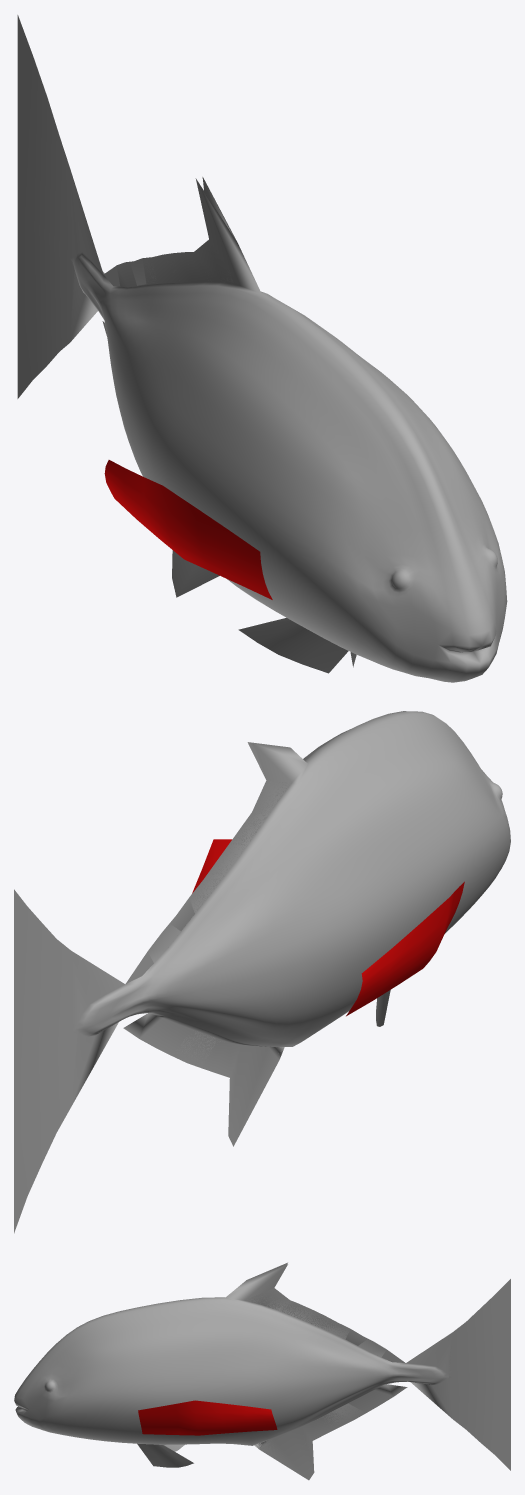
File: Carangidae_A.fbx
3 views of the same model, one above another, from view 1: azimuth 30°, elevation 25°; view 2: azimuth 150°, elevation 25°; view 3: azimuth 270°, elevation 25° (orthographic). The views are drawn at different scales.
Visible parts, largest first — view 1: Carangidae_A_LOD0; view 2: Carangidae_A_LOD0; view 3: Carangidae_A_LOD0.
Boxes of the visible parts, <box> form: Carangidae_A_LOD0: <box>17,15,507,682</box>; Carangidae_A_LOD0: <box>14,711,510,1233</box>; Carangidae_A_LOD0: <box>14,1262,510,1480</box>.
Size of what is drawn, in the model's own units: 0.3145 by 0.4962 by 1.03.
